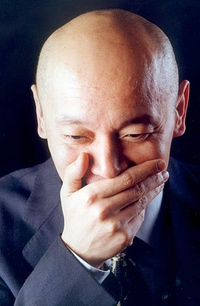face: (51, 46, 167, 221)
